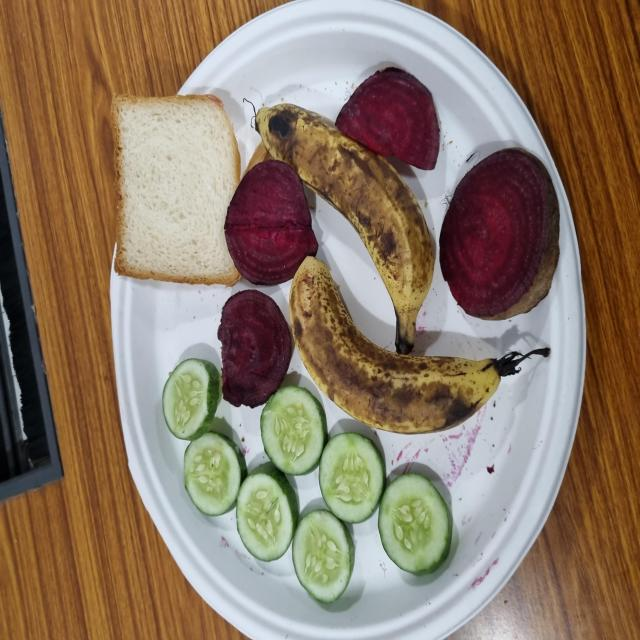banana: (214, 341, 403, 585), (153, 385, 289, 640)
cucumber: (47, 504, 131, 609), (24, 390, 100, 477), (58, 315, 131, 401), (86, 426, 156, 515), (122, 349, 191, 438), (91, 245, 158, 327), (148, 215, 213, 299)
